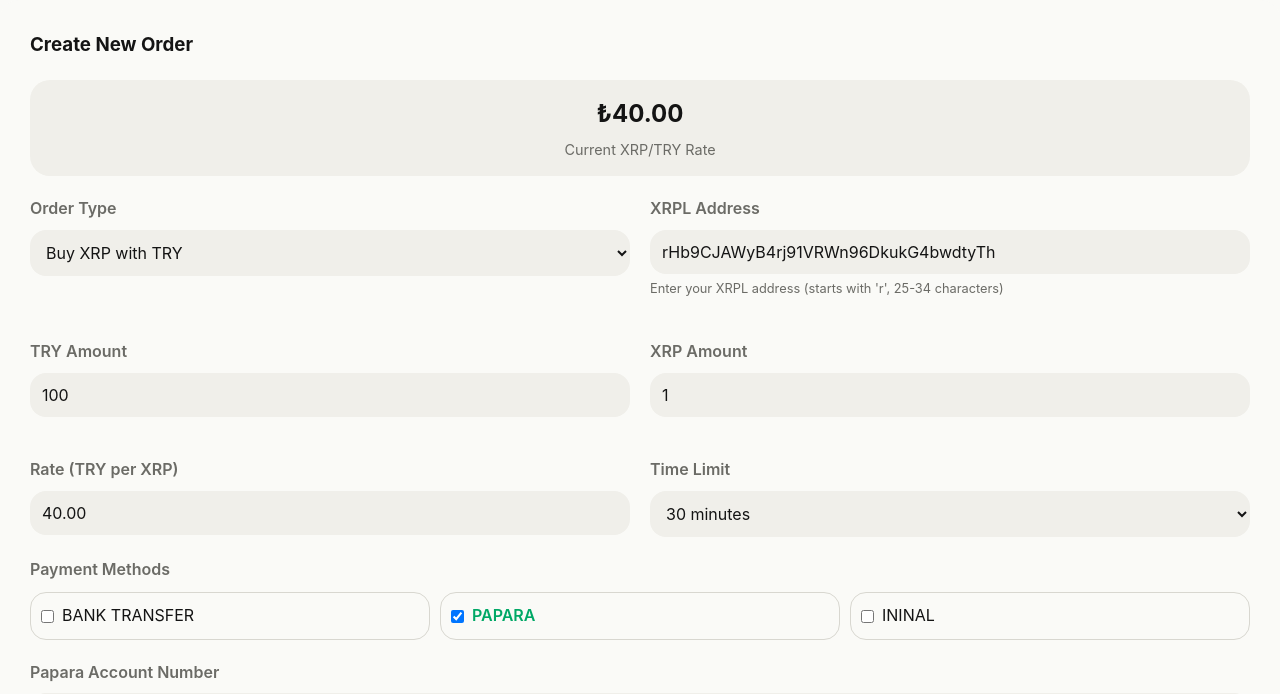
Test: OrderForm › TRY amount auto-calculates XRP via the rate
Expected: the text "PAPARA" is shown, [472, 603, 535, 629]
Replace the text in the number field named "tryAmount" below "TRY Amount" with "400" at (330, 395), box [30, 373, 630, 417]
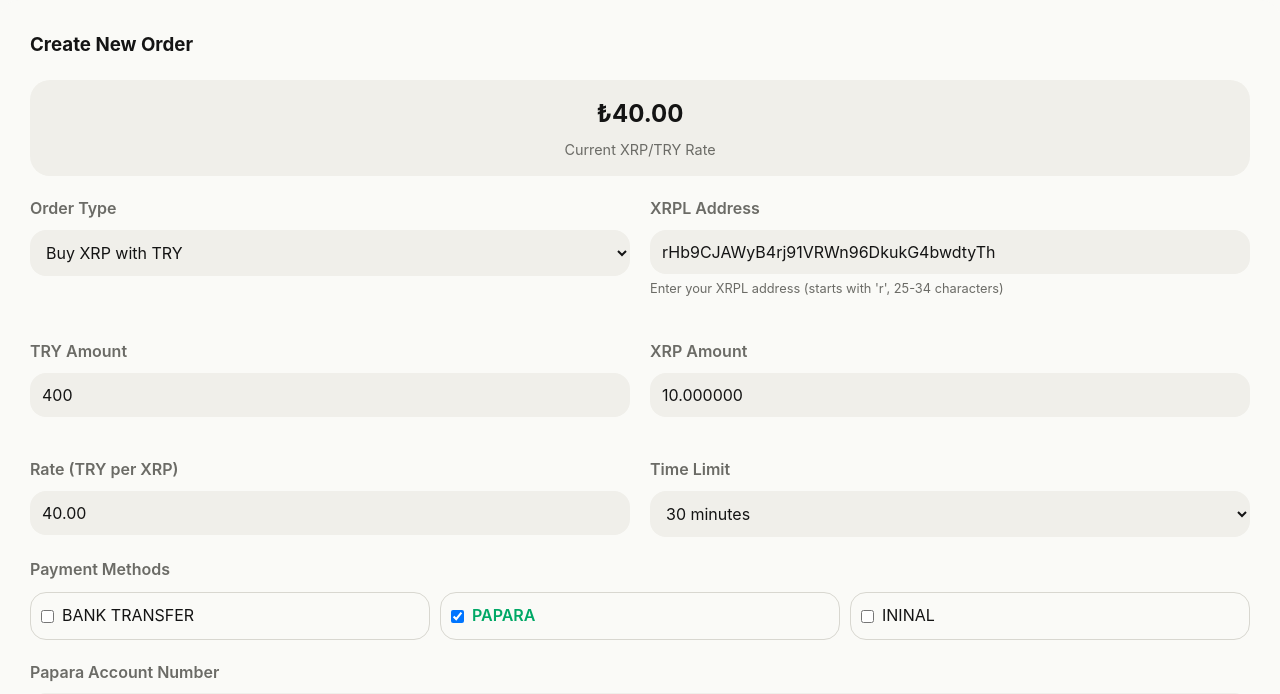
Expected: the number field with placeholder "0.000000" below "XRP Amount" holds "10", [650, 373, 1250, 417]
